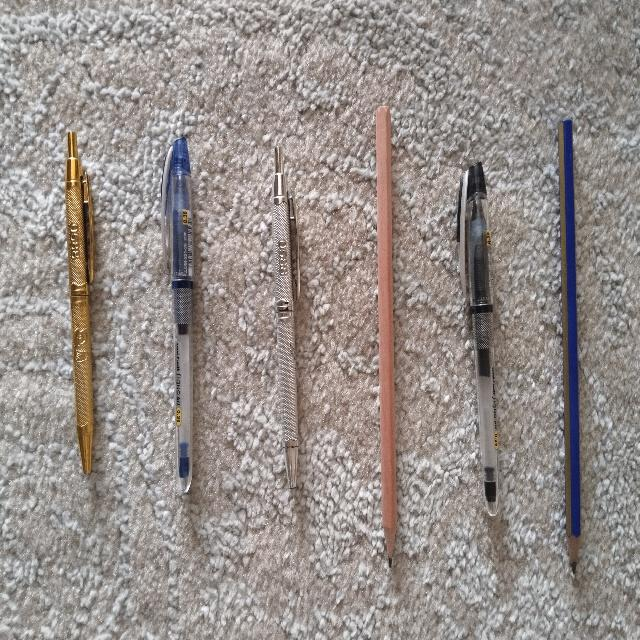pen: (458, 162, 497, 515), (162, 137, 193, 494)
pencil: (558, 120, 580, 572), (376, 106, 396, 565)
signature pen: (65, 132, 93, 472), (272, 147, 299, 487)
